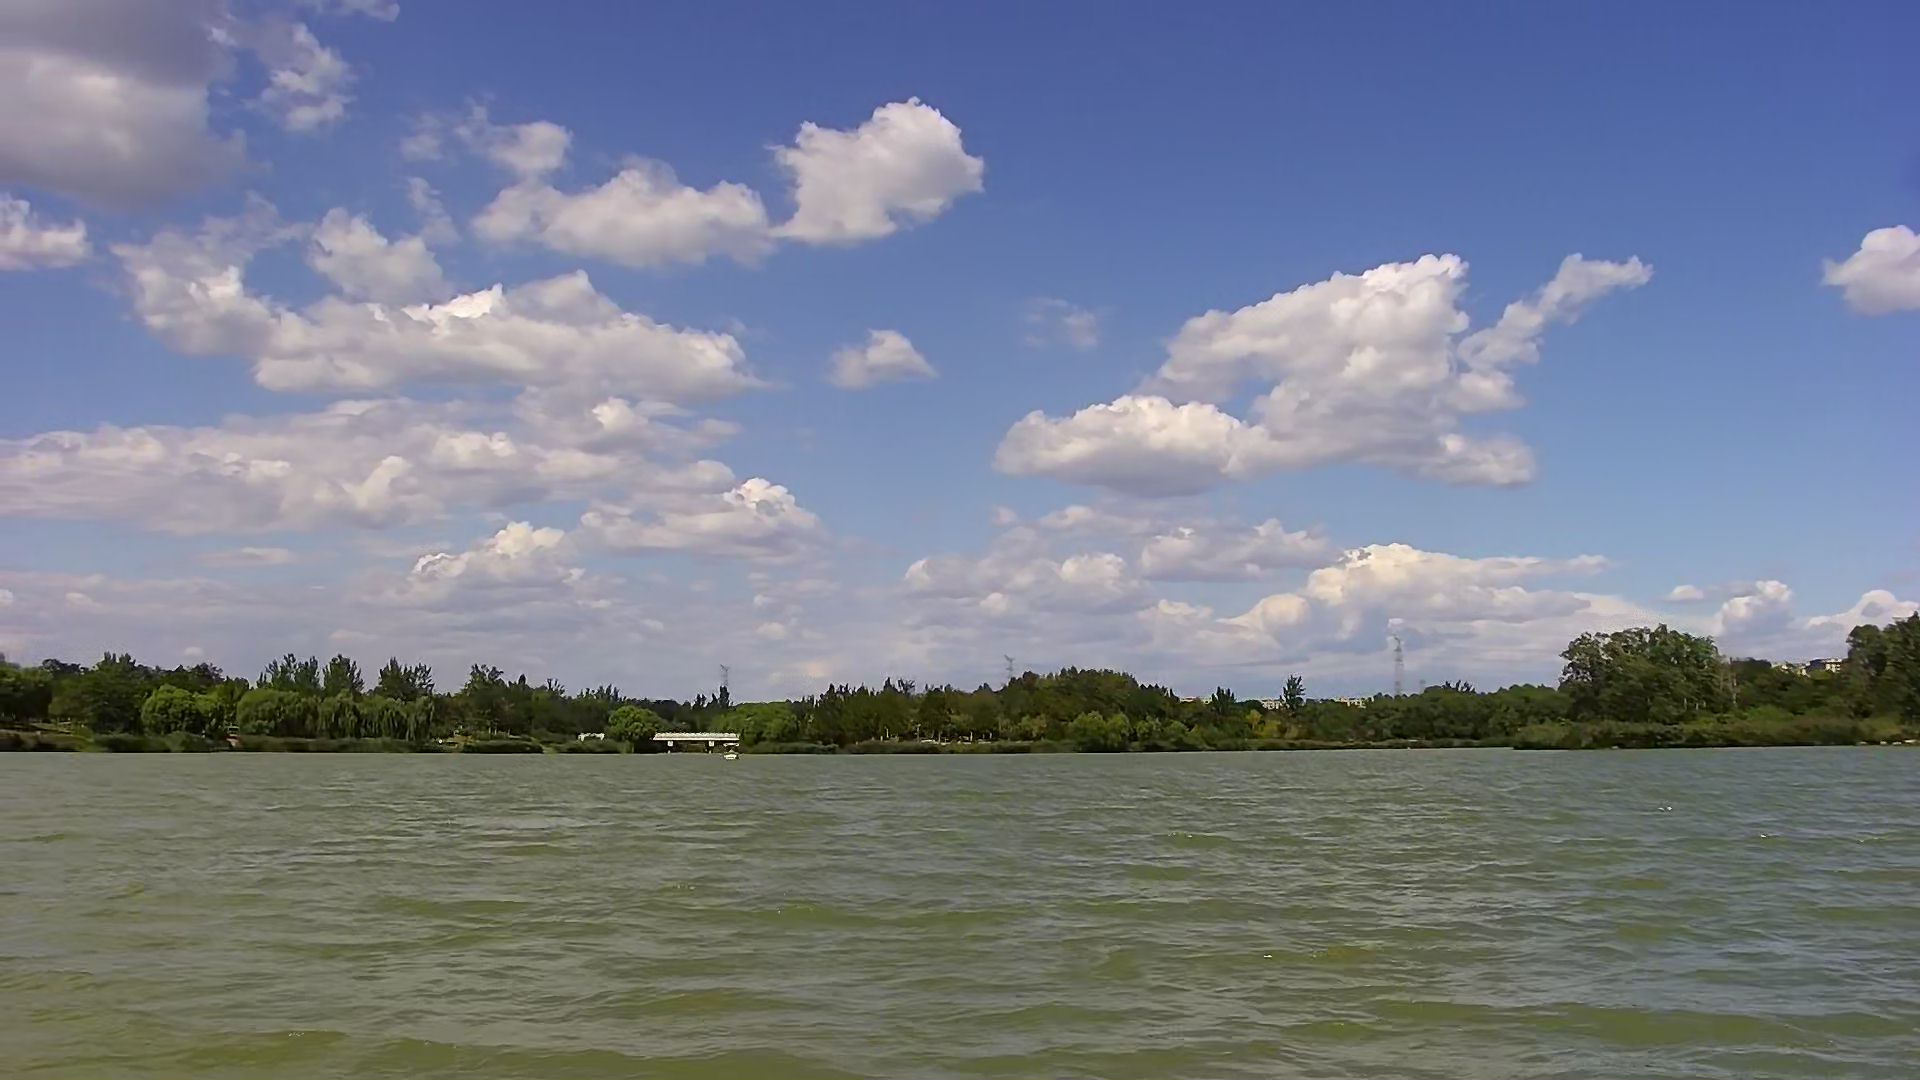bridge: (649, 728, 749, 752)
